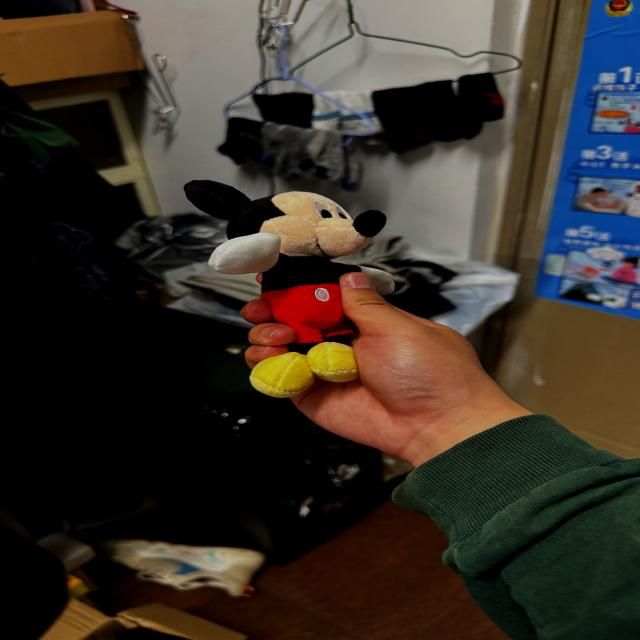mickey: (185, 181, 394, 397)
